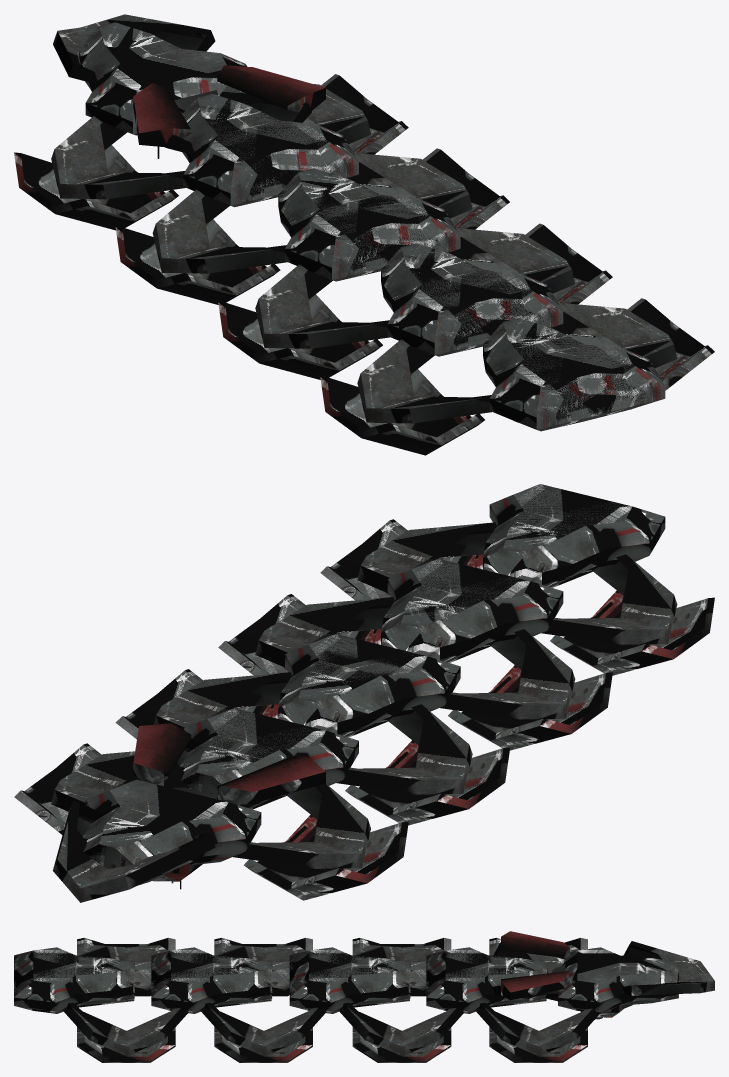
The model's file is TypeWIII.fbx.
3 views of the same model, one above another, from view 1: azimuth 30°, elevation 25°; view 2: azimuth 150°, elevation 25°; view 3: azimuth 270°, elevation 25° (orthographic). The views are drawn at different scales.
Parts seen in each view (by area): view 1: TypeWIII; view 2: TypeWIII; view 3: TypeWIII.
Boxes of the visible parts, x1,y1,x2,y2 form: TypeWIII: (14, 14, 714, 455); TypeWIII: (14, 484, 714, 902); TypeWIII: (14, 931, 714, 1062).
Size of the model in its own units: 141 by 38.79 by 365.
1 material, 1 textured.
